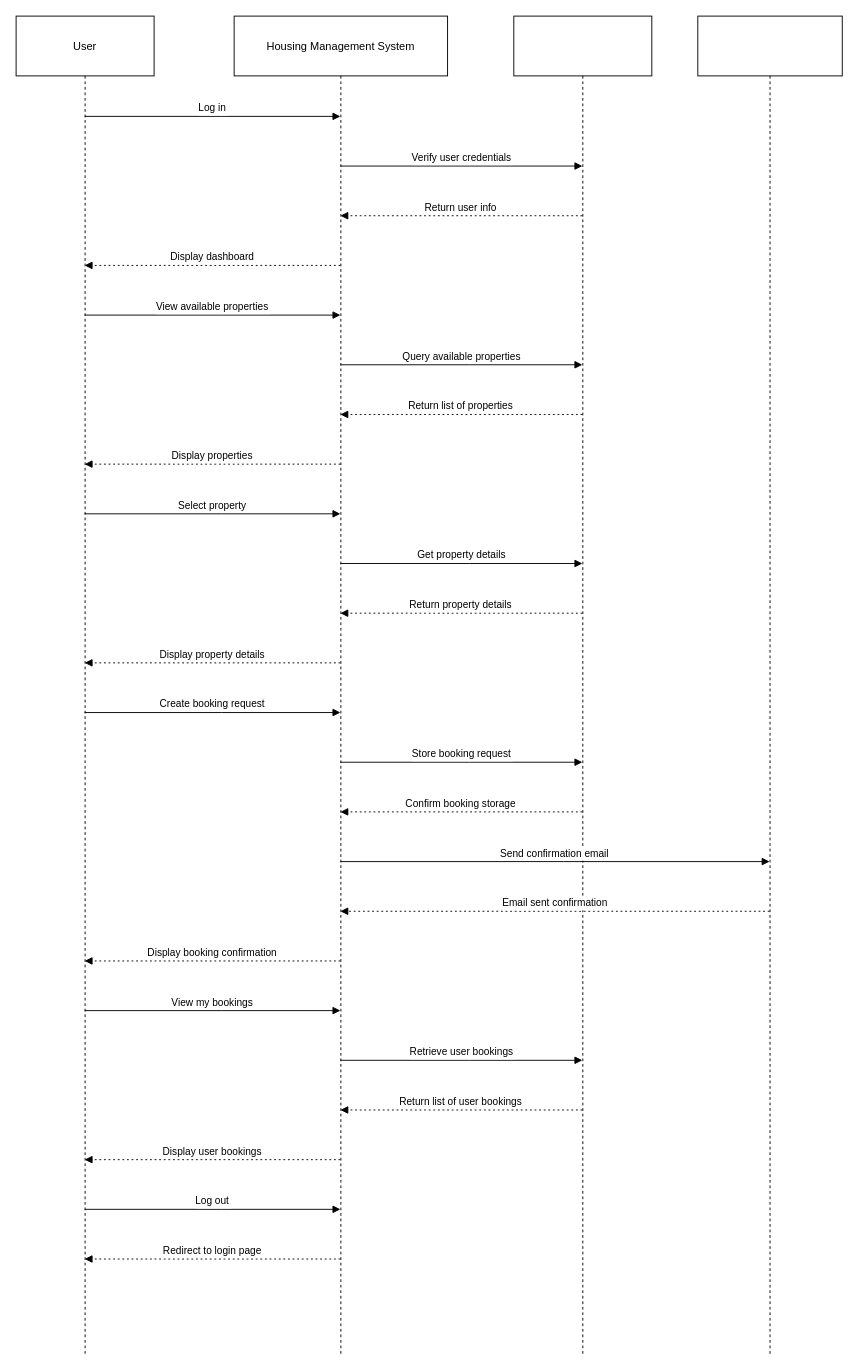
This 858x1372 diagram has some shape labels left out. The box of each missing label's shape, as (x1, y1, x2, y2) in pixels:
Database: (513, 15, 652, 1356)
Notification Service: (697, 15, 842, 1356)
